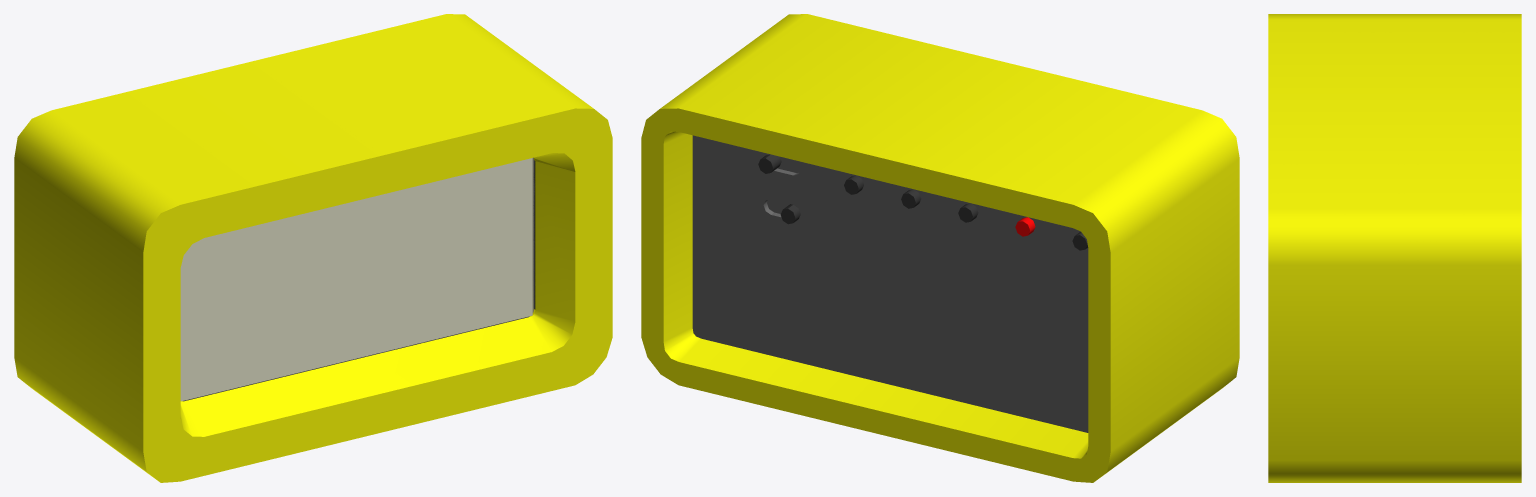
The model's file is AlarmClock-2.dae.
The picture shows the model from 3 angles, left to right: view 1: azimuth 30°, elevation 25°; view 2: azimuth 150°, elevation 25°; view 3: azimuth 270°, elevation 25°; orthographic projection.
Parts seen in each view (by area): view 1: group_0 (×2), SketchUp; view 2: group_0 (×3); view 3: group_0.
Boxes of the visible parts, x1,y1,x2,y2 form: group_0 (×2): (14, 14, 612, 482); SketchUp: (180, 158, 532, 401); group_0 (×3): (641, 14, 1239, 482); group_0: (1268, 14, 1521, 482).
Size of the model in its own units: 1.54 by 0.7323 by 0.8665.
